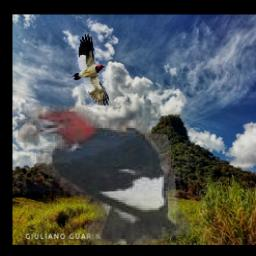Woodpecker: (19, 104, 192, 244), (72, 33, 109, 106)
